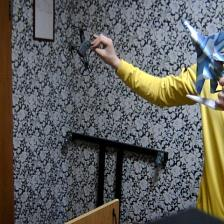drone: (59, 16, 108, 74)
